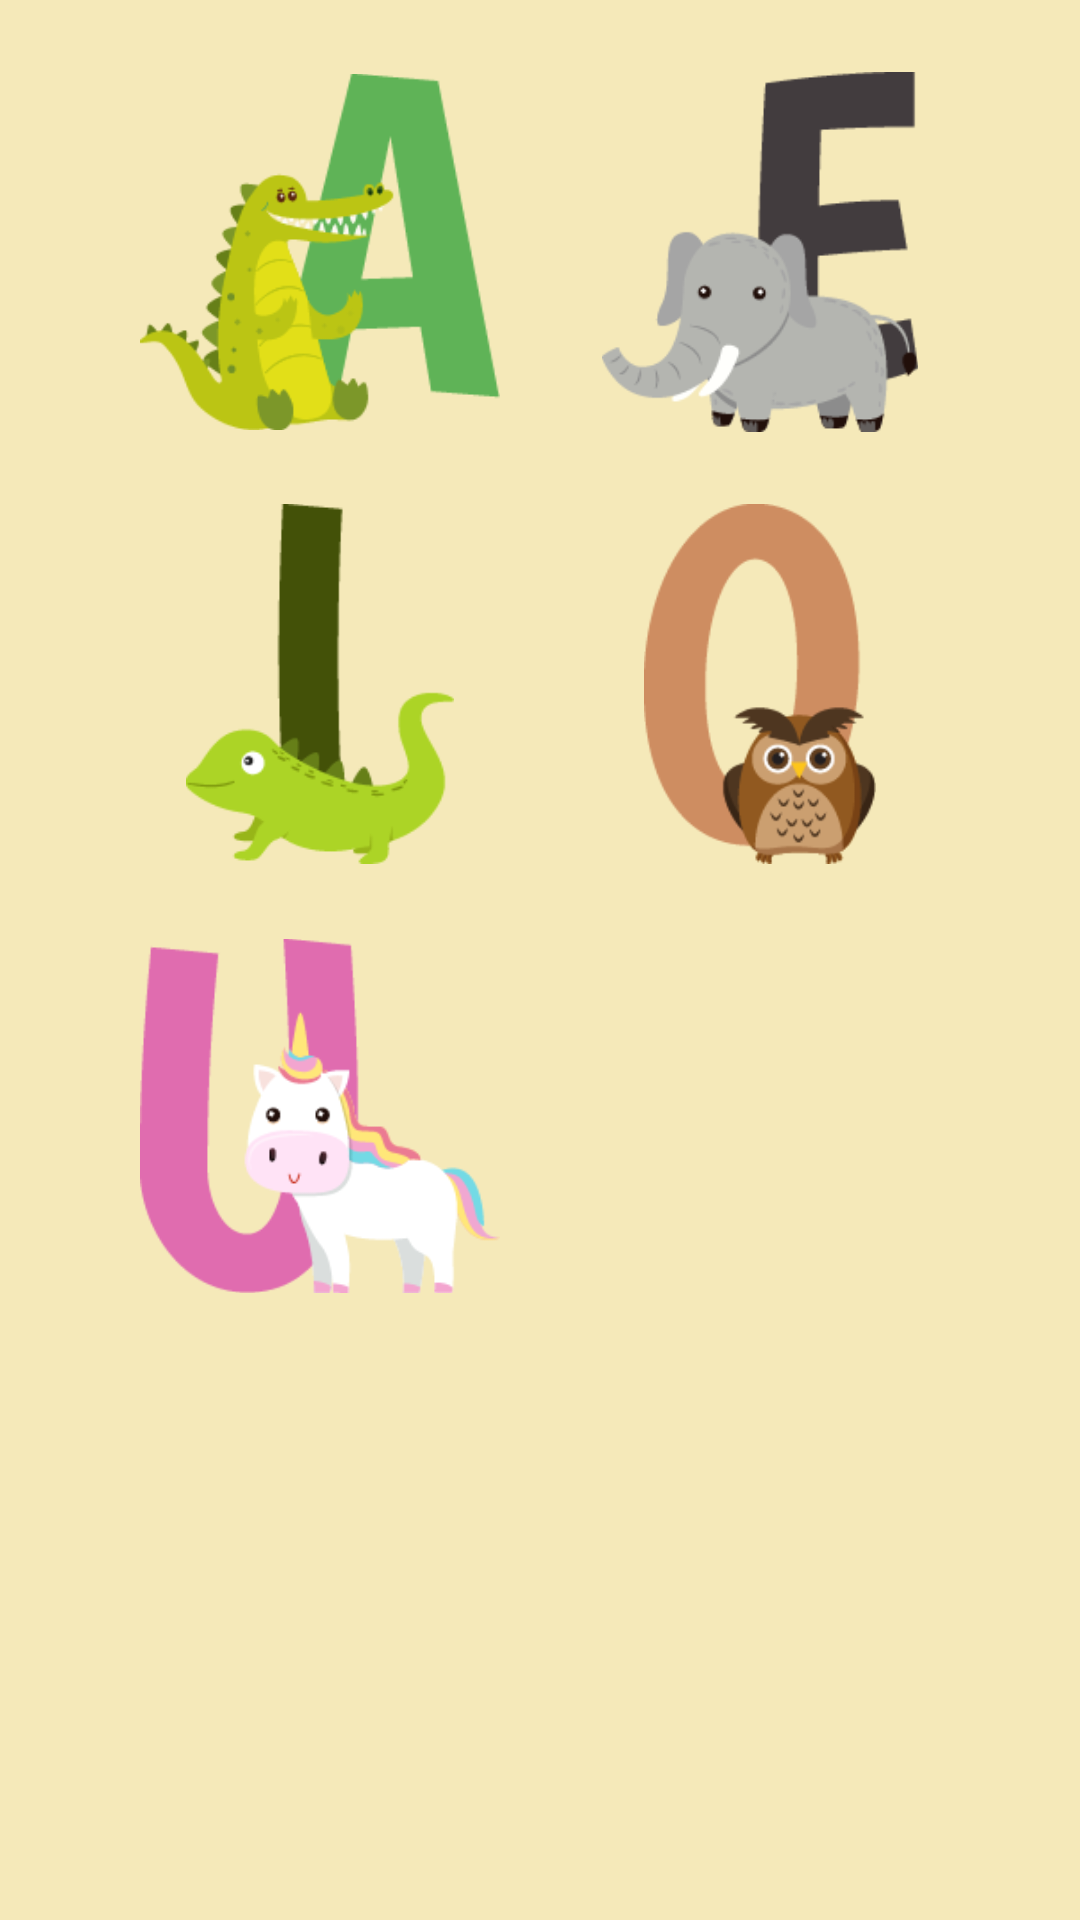

Named icons in this screenshot (1080x1920) and their bounding boxes, (x1, y1, x2, y2):
letra: (602, 72, 918, 432), (140, 74, 500, 430), (186, 504, 454, 864), (644, 504, 876, 864), (140, 939, 497, 1293)
